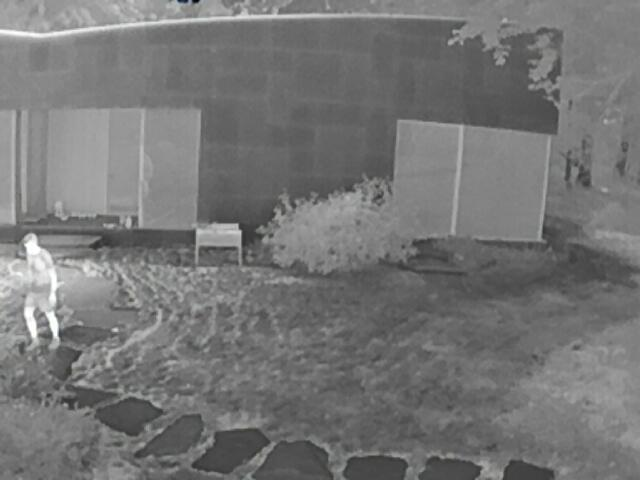person: (17, 233, 62, 356)
